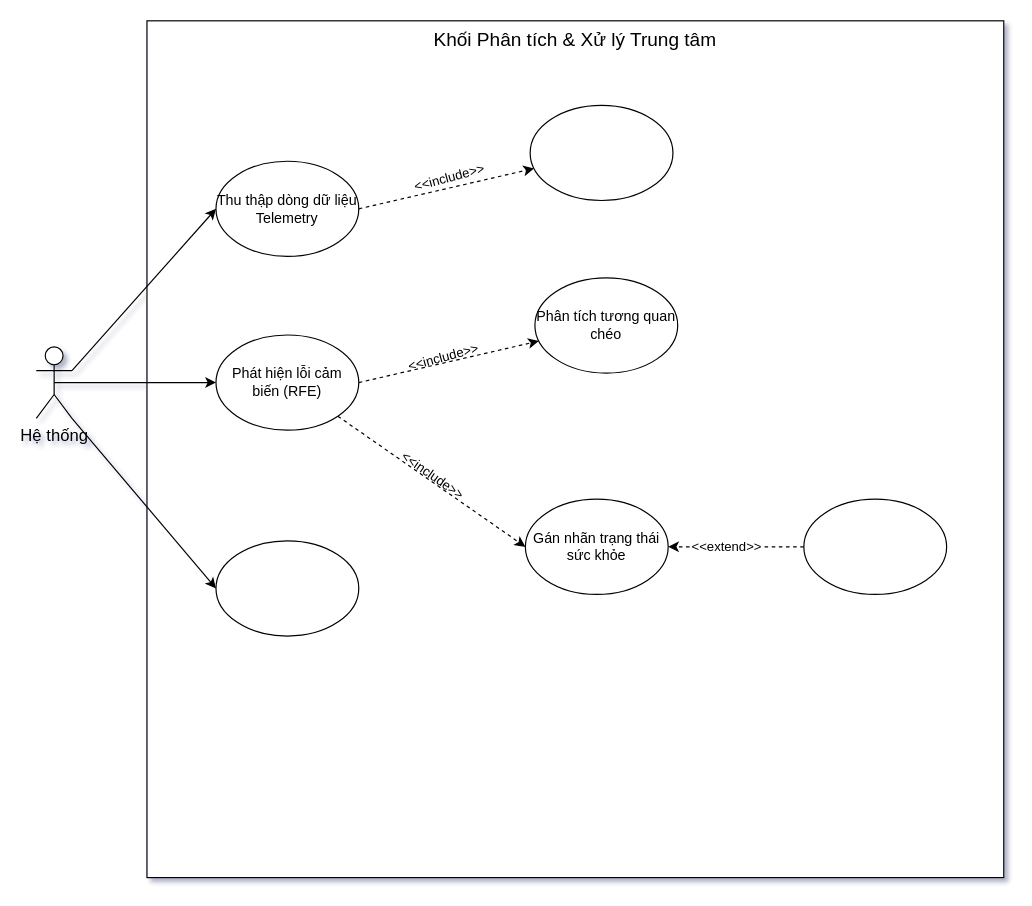
The diagram is 1032 pixels wide and 906 high, and some of its shapes have lost their labels. Here are the shapes that lost their labels. From the top down, the box of each, then its label:
(529, 104, 673, 201): Kiểm tra chất lượng dữ liệu
(803, 498, 947, 594): Kích hoạt cảnh báo
(215, 540, 359, 636): Theo dõi độ suy hao thiết bị
